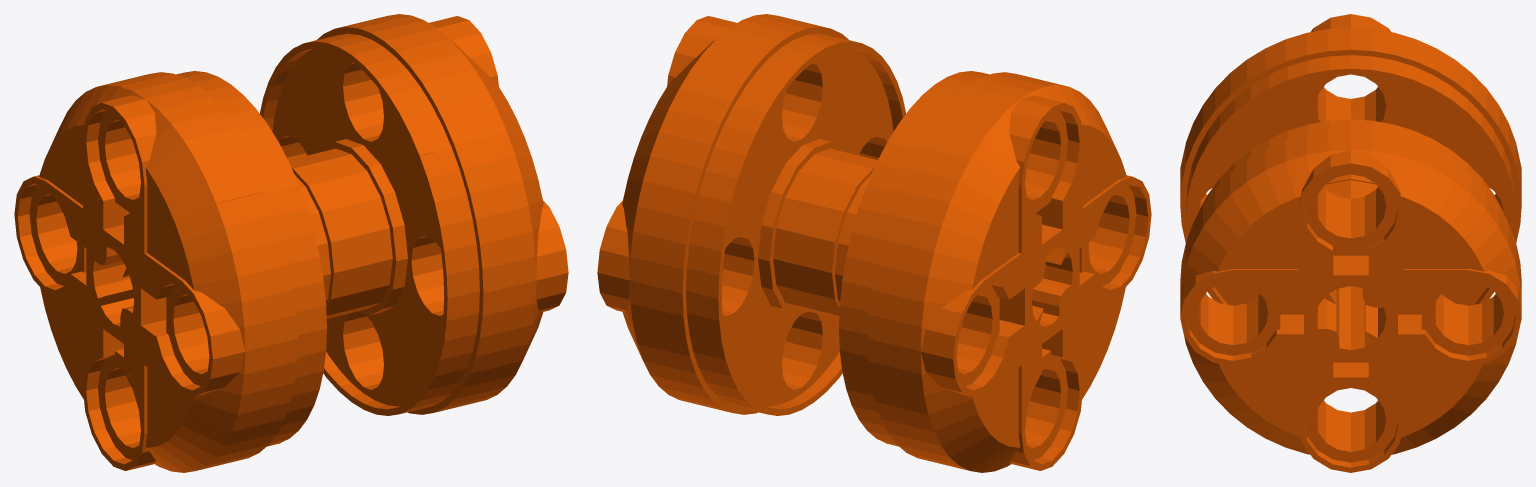
Rendered from MotorServo.dae.
The picture shows the model from 3 angles, left to right: view 1: azimuth 30°, elevation 25°; view 2: azimuth 150°, elevation 25°; view 3: azimuth 270°, elevation 25°; orthographic projection. The views are drawn at different scales.
Visible parts, largest first — view 1: MotorServo; view 2: MotorServo; view 3: MotorServo.
Part boxes in pixels (left/top/right/bottom): MotorServo: left=14, top=14, right=568, bottom=472; MotorServo: left=597, top=14, right=1151, bottom=472; MotorServo: left=1180, top=14, right=1521, bottom=472.
Bounding box in the file's own units: 0.0298 × 0.0288 × 0.0288.
1 material, 1 textured.
